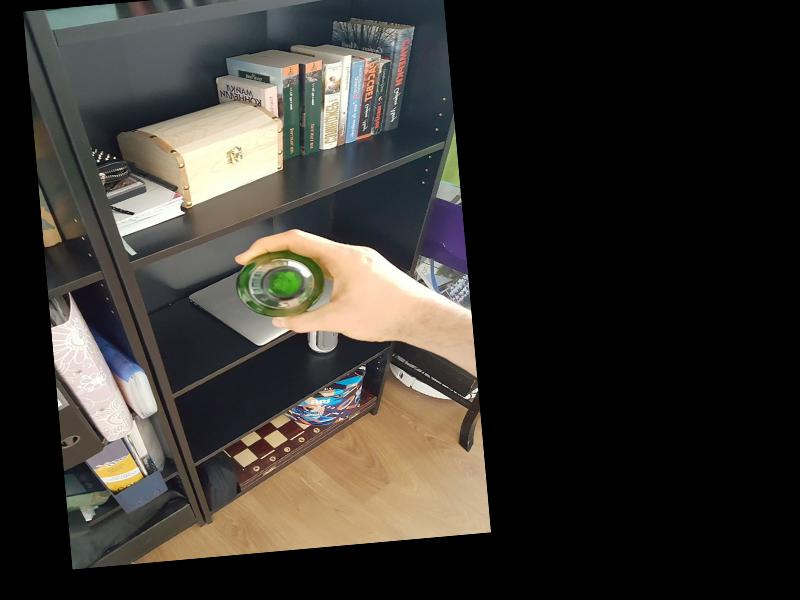Beer: (238, 248, 325, 321)
